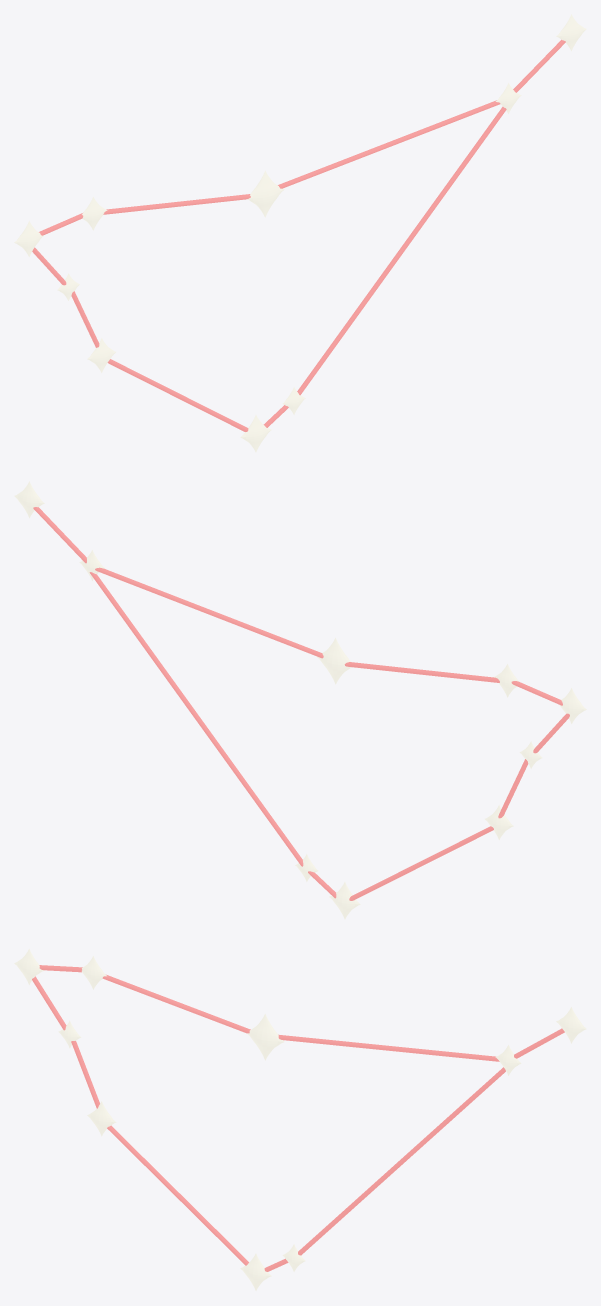
File: sozvezdiya-kozerog.glb
3 views of the same model, one above another, from view 1: azimuth 30°, elevation 25°; view 2: azimuth 150°, elevation 25°; view 3: azimuth 330°, elevation 25° (orthographic).
Parts seen in each view (by area): view 1: Cylinder, Sphere.012; view 2: Cylinder, Sphere.012; view 3: Cylinder, Sphere.012, Sphere.006, Sphere.004, Sphere.002, Sphere.005.
Boxes of the visible parts, bbox=[...] form: Cylinder: bbox=[32, 39, 565, 431]; Sphere.012: bbox=[247, 170, 284, 217]; Cylinder: bbox=[33, 507, 569, 900]; Sphere.012: bbox=[316, 637, 351, 684]; Cylinder: bbox=[32, 965, 564, 1271]; Sphere.012: bbox=[247, 1014, 284, 1060]; Sphere.006: bbox=[240, 1253, 271, 1290]; Sphere.004: bbox=[556, 1007, 586, 1043]; Sphere.002: bbox=[14, 949, 44, 984]; Sphere.005: bbox=[87, 1101, 116, 1136].
Size of the model in its own units: 0.152 by 0.0918 by 0.00339.
